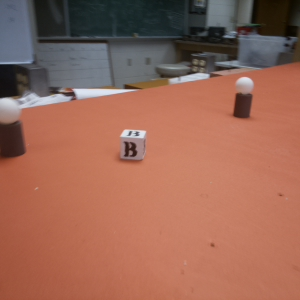obstacle: (1, 97, 27, 159), (234, 76, 254, 119)
